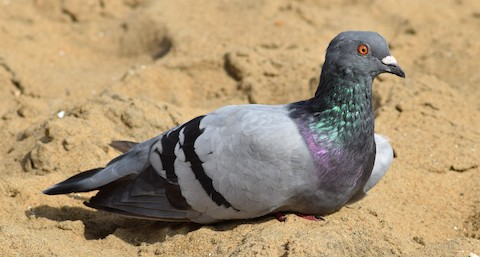pigeon: (39, 23, 413, 233)
